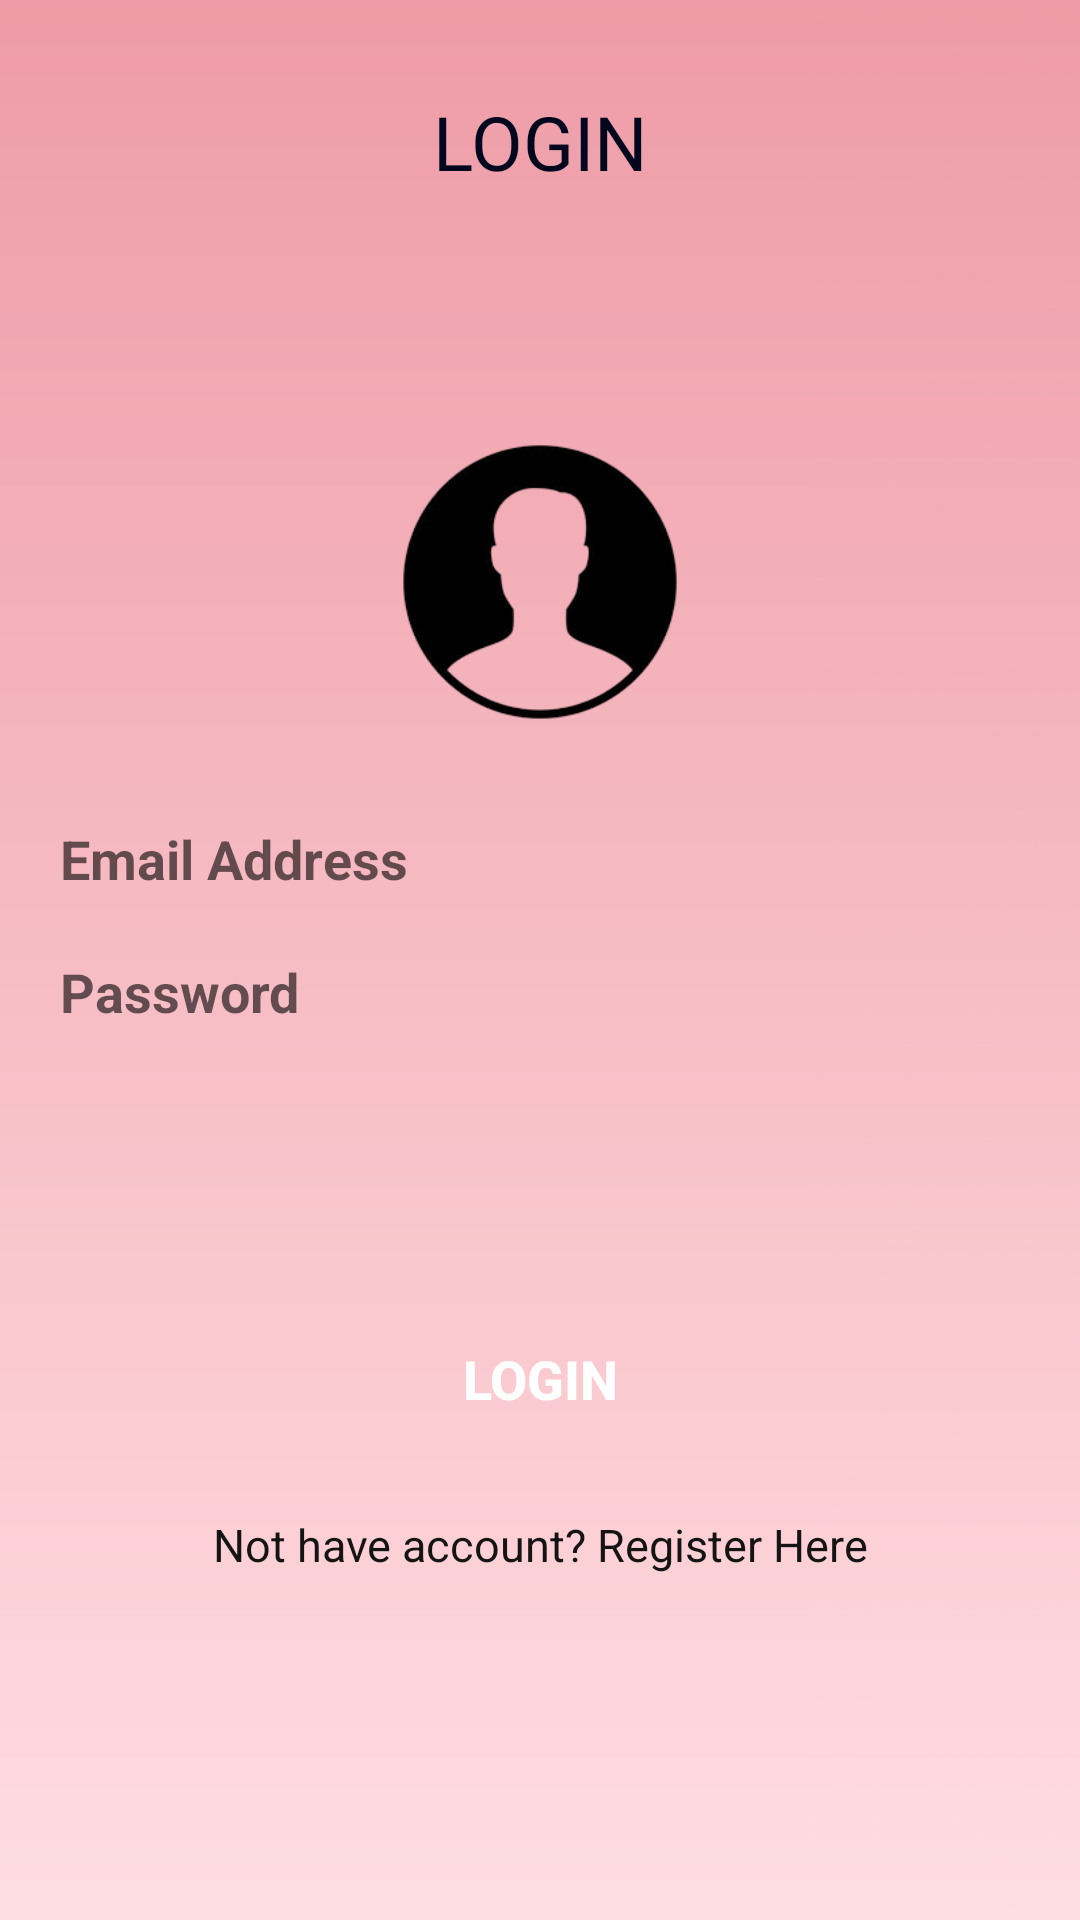

Named icons in this screenshot (1080×1920) and their bounding boxes, (x1, y1, x2, y2):
user: (403, 445, 677, 719)
